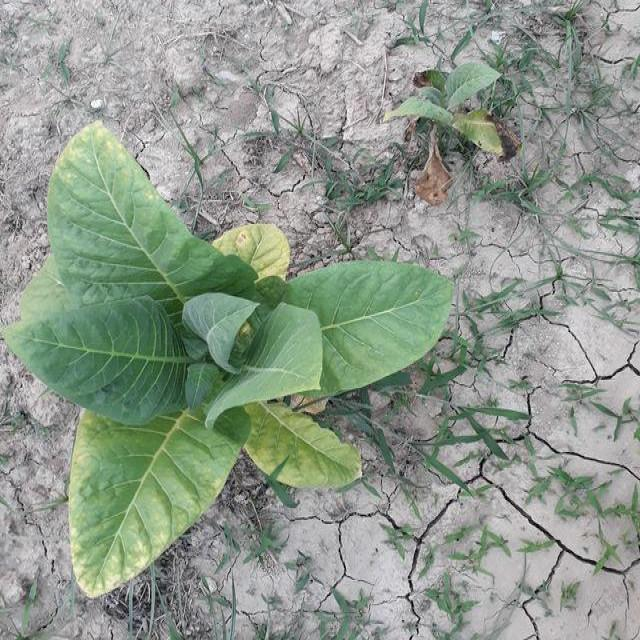crop: (15, 130, 451, 594), (380, 63, 512, 168)
